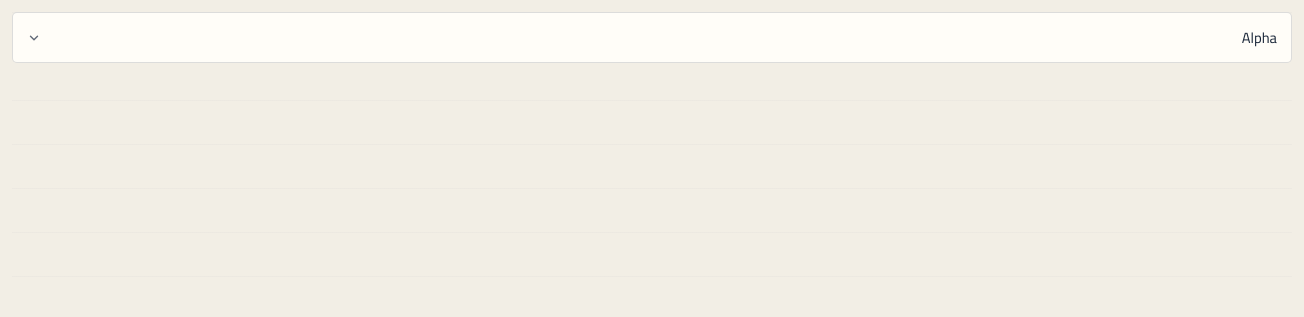
Test: Select — mouse › opens on click, commits on option click, and closes
This screenshot has width=1304, height=317.
What coordinates should you click on to do the following:
click the dropdown named "Test select"
I would click on:
 (1259, 38)
Its box is [12,12,1292,63].
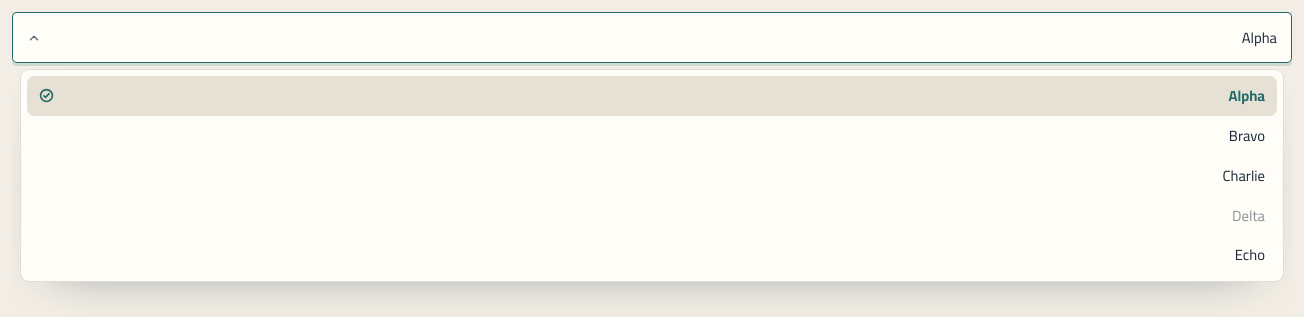
Expected: the list is shown
What coordinates should you click on to do the following:
click the option "Charlie"
I would click on:
 (1244, 175)
Its box is [1222,162,1265,189].
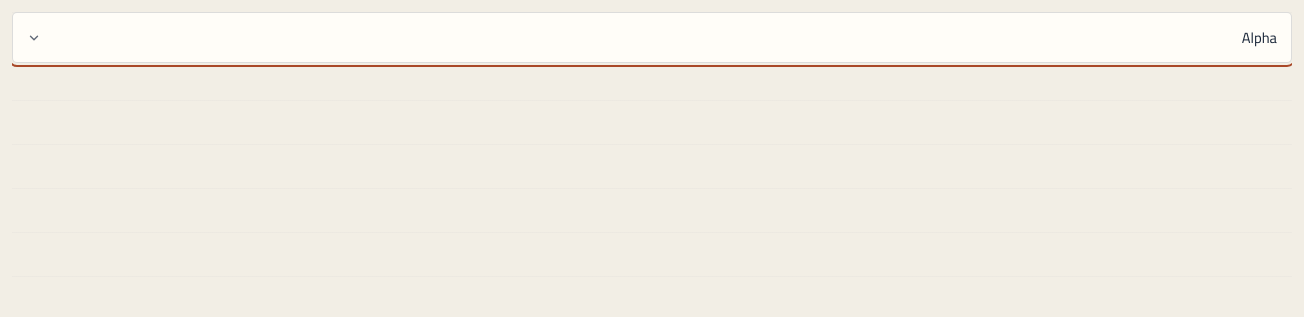
Expected: the list is gone
